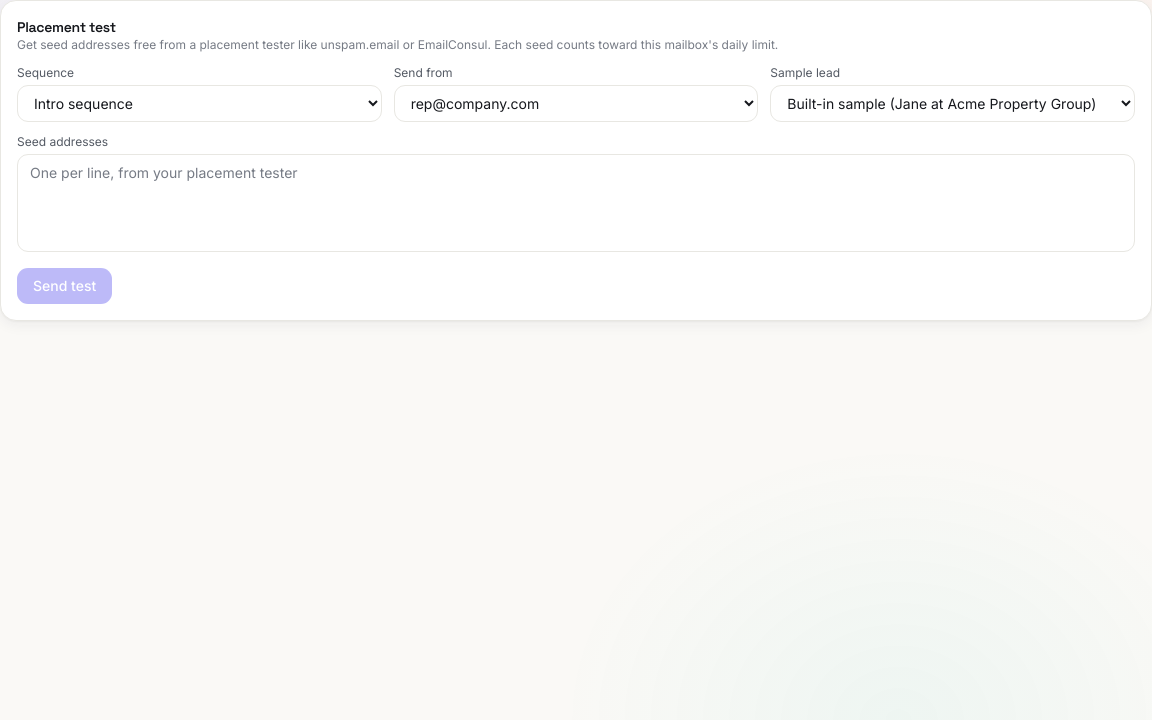
PlacementTestCard › shows the server error in an alert
Type "a@tester.com" into the text box labelled "Seed addresses" at point(576, 203), box [17,154,1135,252]
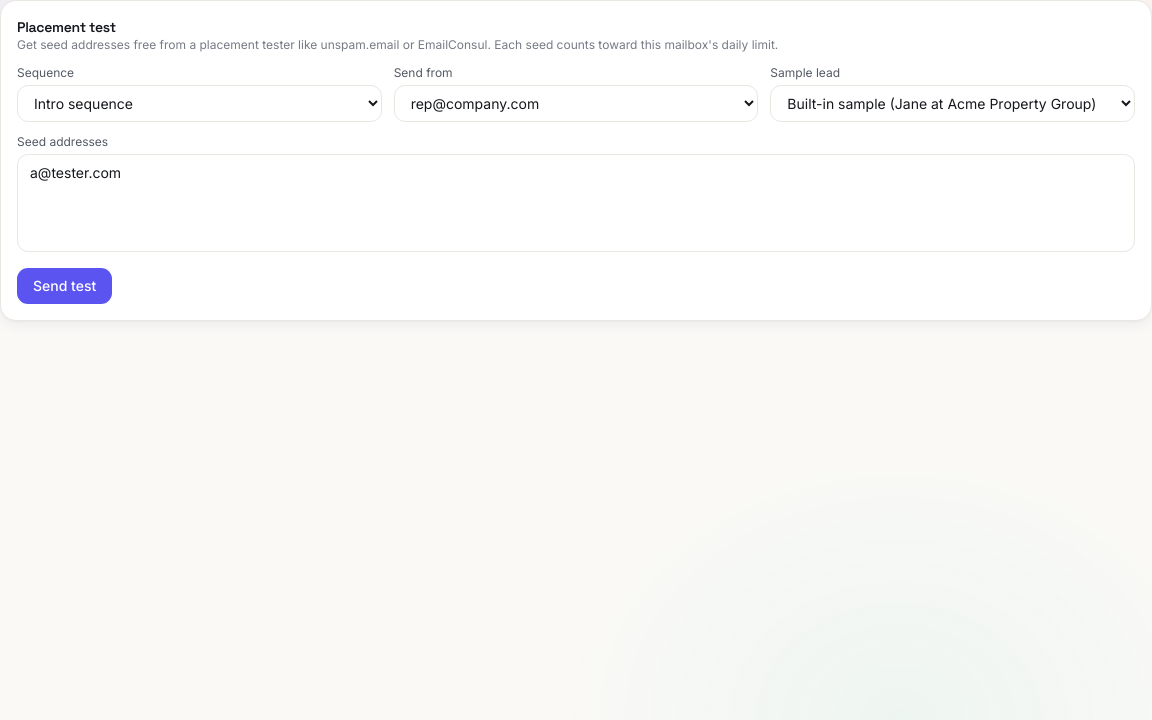
Click the button "Send test" at point(65, 286), box [17,268,112,304]
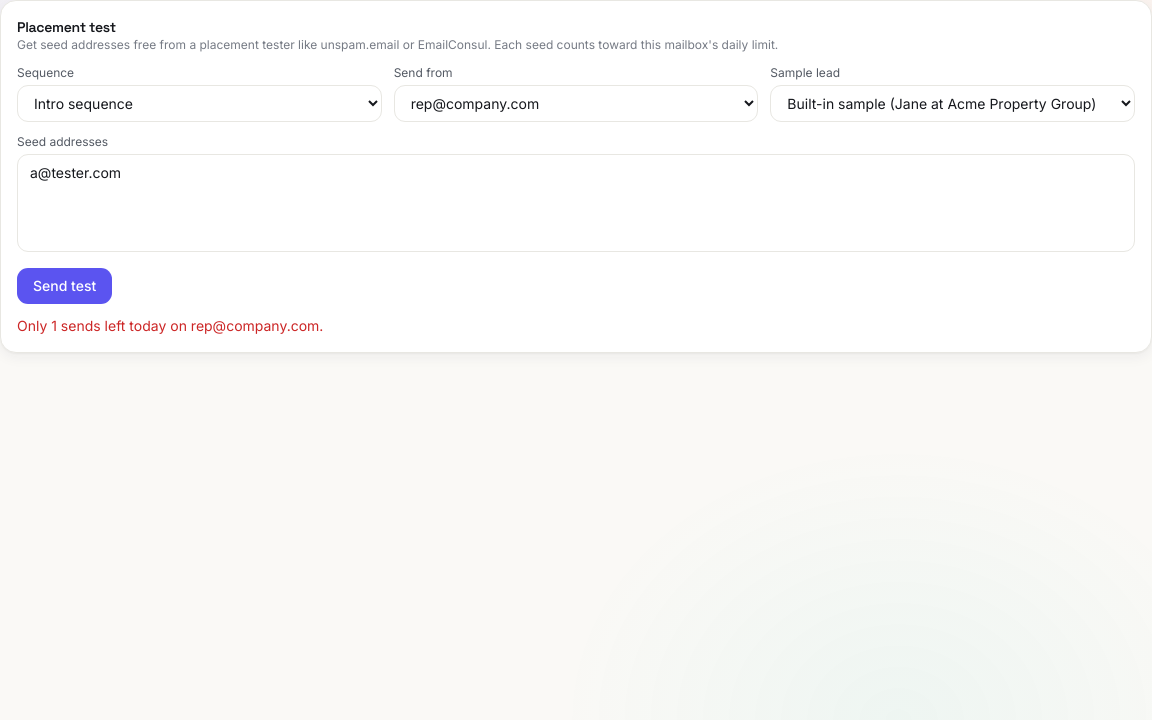
Result: the message reads "Only 1 sends left today on rep@company.com." at [17,317,323,334]
